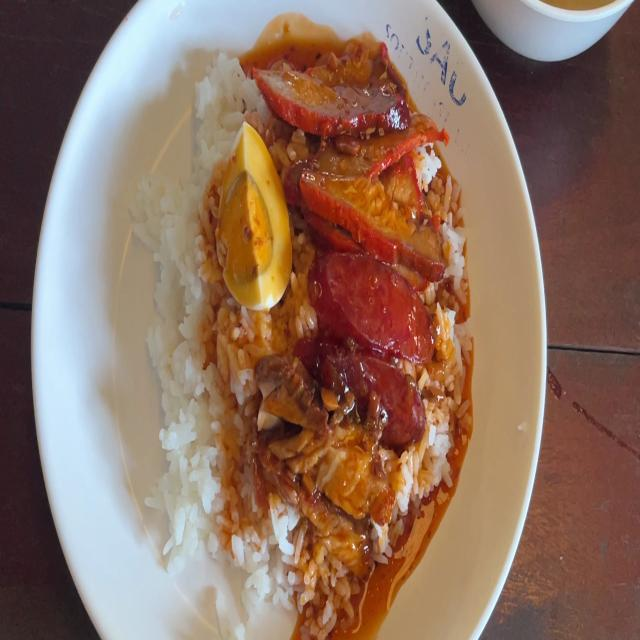01boiled_egg: (218, 119, 291, 307)
01chainese_sausage: (305, 245, 433, 428)
01crispy_pork: (288, 453, 402, 557), (267, 364, 314, 486)
01red_pork: (298, 176, 441, 269), (266, 71, 405, 136), (295, 116, 437, 176)
01red_pork_and_crispy_pork: (153, 55, 454, 601)
01rice: (150, 146, 216, 536), (212, 378, 254, 569), (198, 61, 256, 152), (214, 318, 256, 375)
